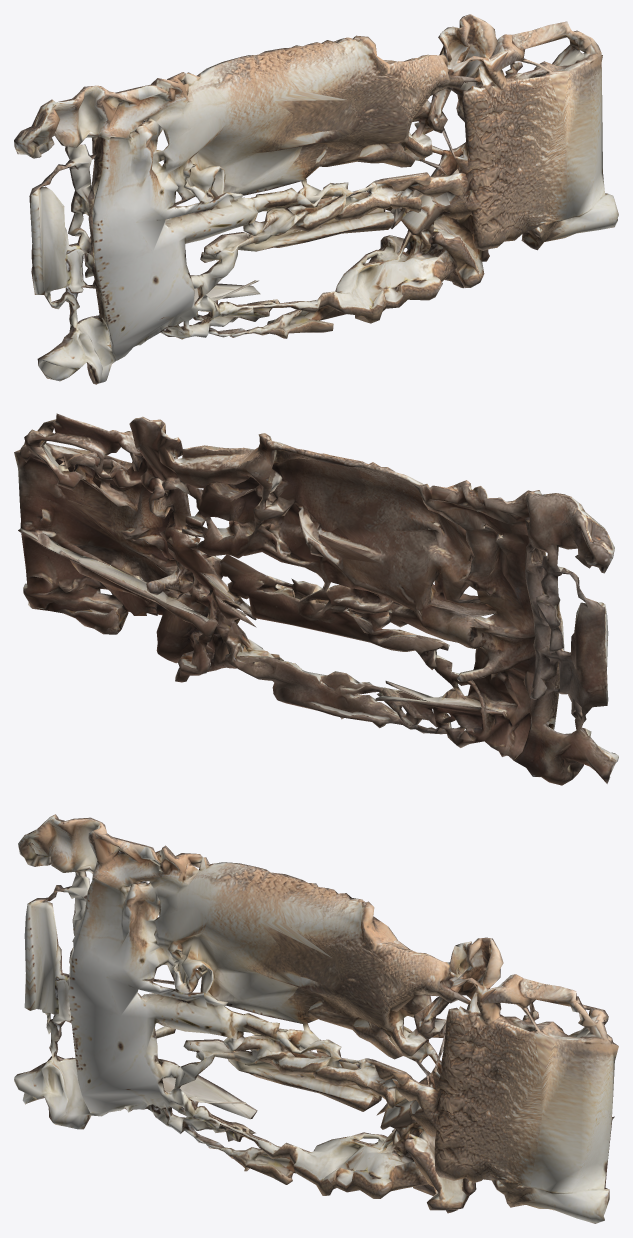
Rendered from 09_car.glb.
The picture shows the model from 3 angles, top to bottom: view 1: azimuth 30°, elevation 25°; view 2: azimuth 150°, elevation 25°; view 3: azimuth 330°, elevation 25°; orthographic projection. The views are drawn at different scales.
Parts seen in each view (by area): view 1: Group48937; view 2: Group48937; view 3: Group48937.
Boxes of the visible parts, x1,y1,x2,y2 form: Group48937: (14,14,618,384); Group48937: (14,413,618,785); Group48937: (14,814,618,1223).
Bounding box in the file's own units: 9.29 × 4.37 × 1.28.
Materials: 1 (1 with a texture image).
